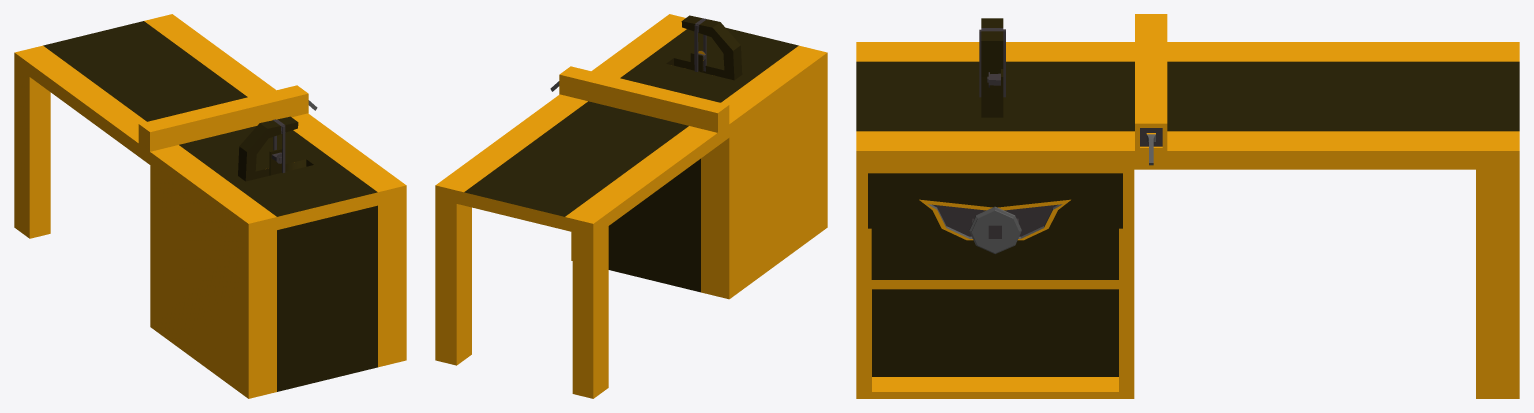
File: Table_noSaw.fbx
The picture shows the model from 3 angles, left to right: view 1: azimuth 30°, elevation 25°; view 2: azimuth 150°, elevation 25°; view 3: azimuth 270°, elevation 25°; orthographic projection. The views are drawn at different scales.
Visible parts, largest first — view 1: saw_table; view 2: saw_table; view 3: saw_table.
Boxes of the visible parts, x1,y1,x2,y2 form: saw_table: (14,14,406,398); saw_table: (435,14,827,398); saw_table: (856,14,1519,398).
Bounding box in the file's own units: 259 × 319 × 609.
